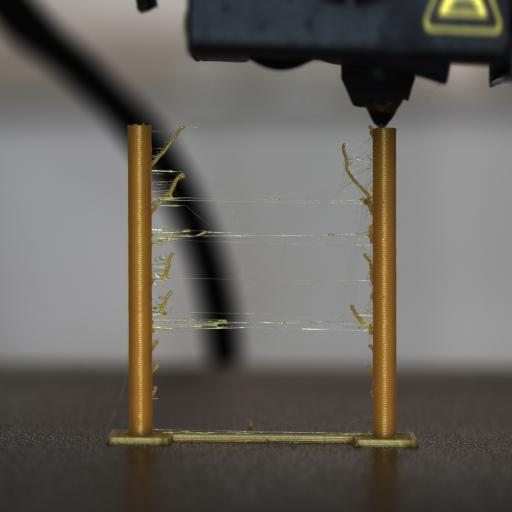stringing: (342, 136, 374, 208), (152, 122, 188, 167), (181, 200, 218, 227), (154, 250, 175, 280), (350, 304, 372, 332), (167, 172, 186, 198), (276, 230, 288, 270), (152, 290, 172, 314), (363, 252, 373, 284), (150, 128, 200, 134), (366, 385, 374, 420), (152, 236, 174, 244), (151, 338, 159, 352), (150, 202, 158, 214), (151, 362, 159, 374), (152, 386, 158, 398), (367, 365, 373, 375), (368, 124, 374, 134), (368, 343, 374, 352)
